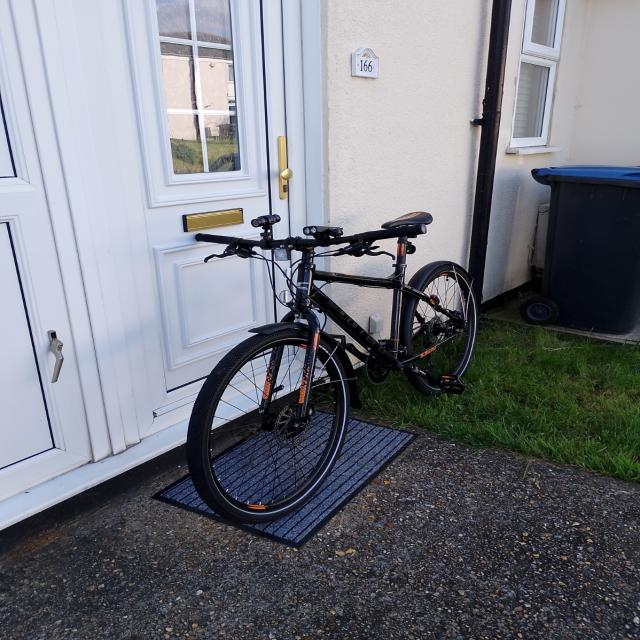bicycle: (180, 210, 478, 524)
